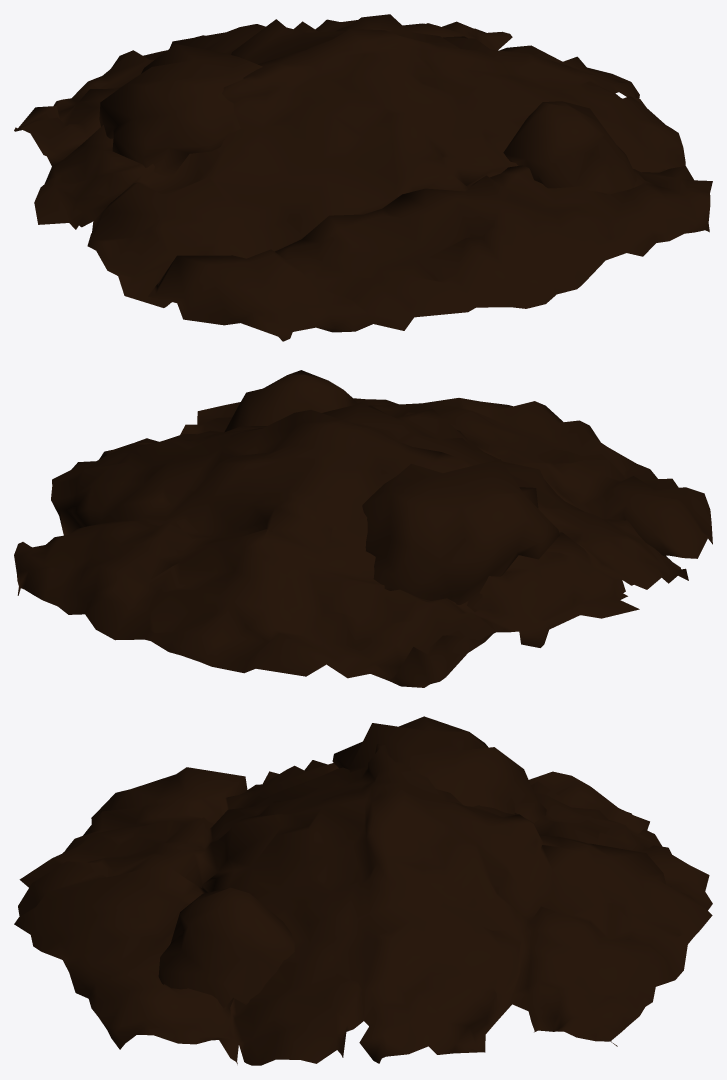
Rendered from SM_Barnacle_Rock_01.obj.
3 renders of one model, top to bottom at view 1: azimuth 30°, elevation 25°; view 2: azimuth 150°, elevation 25°; view 3: azimuth 270°, elevation 25°, orthographic. The views are drawn at different scales.
Parts seen in each view (by area): view 1: SM_Barnacle_Rock_01_LOD0; view 2: SM_Barnacle_Rock_01_LOD0; view 3: SM_Barnacle_Rock_01_LOD0.
Part boxes in pixels (box(x1,y1,x2,y2)): SM_Barnacle_Rock_01_LOD0: box(14, 14, 712, 341); SM_Barnacle_Rock_01_LOD0: box(14, 370, 712, 687); SM_Barnacle_Rock_01_LOD0: box(14, 716, 712, 1065).
Size of what is drawn, in the model's own units: 167 by 40.27 by 169.
